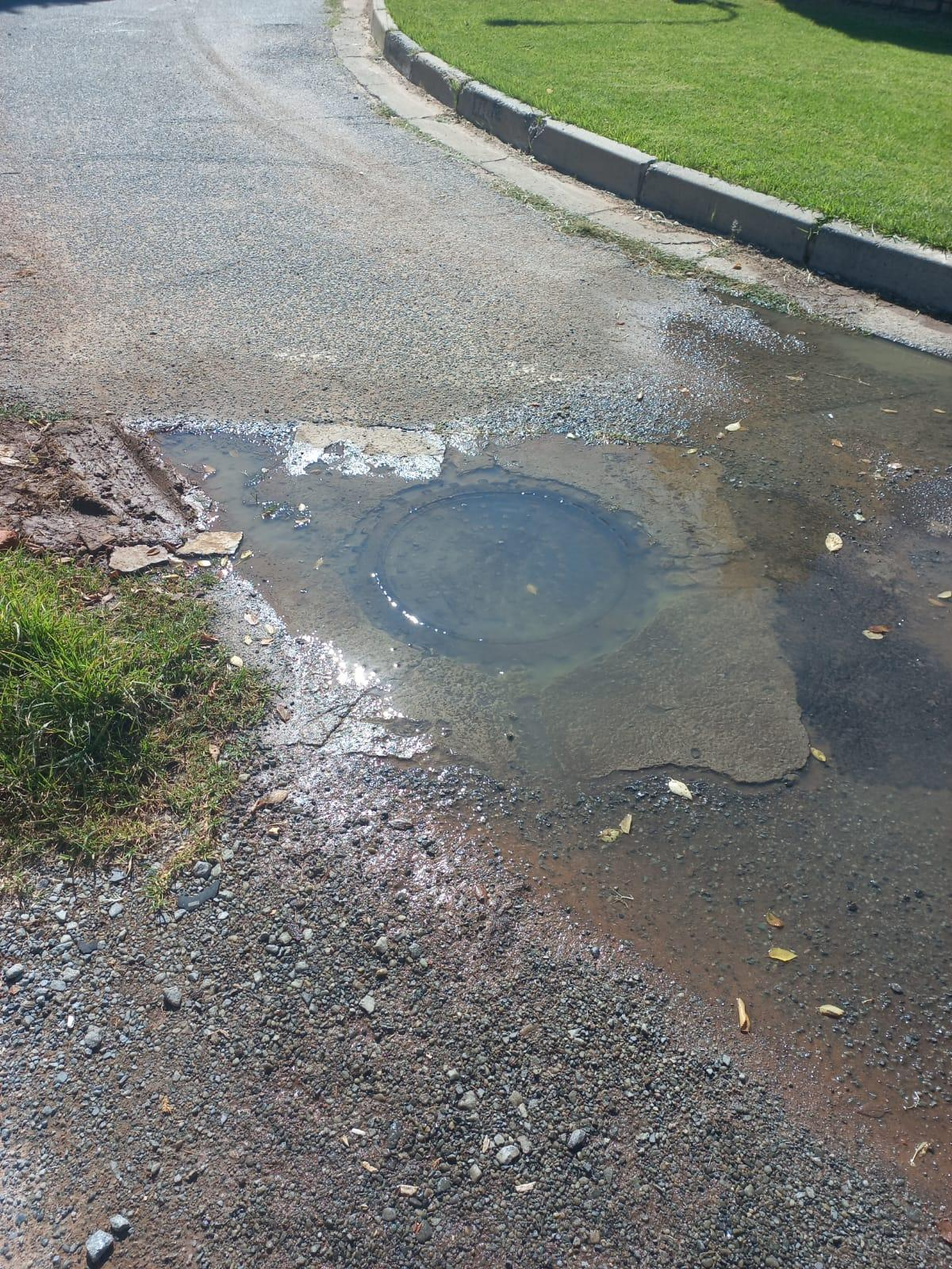water_leak: (148, 414, 823, 797), (334, 450, 675, 688)
